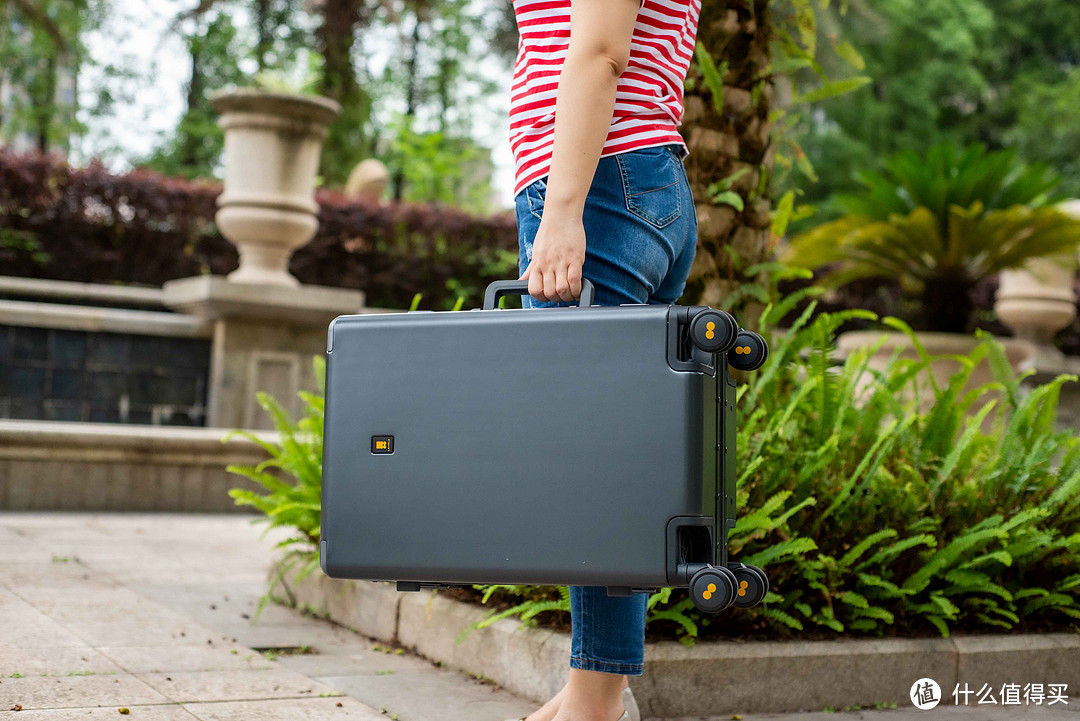box: (322, 305, 735, 590)
handle: (482, 278, 596, 310)
wheel: (689, 565, 738, 612), (689, 308, 739, 353), (730, 564, 770, 608), (728, 329, 769, 370)
